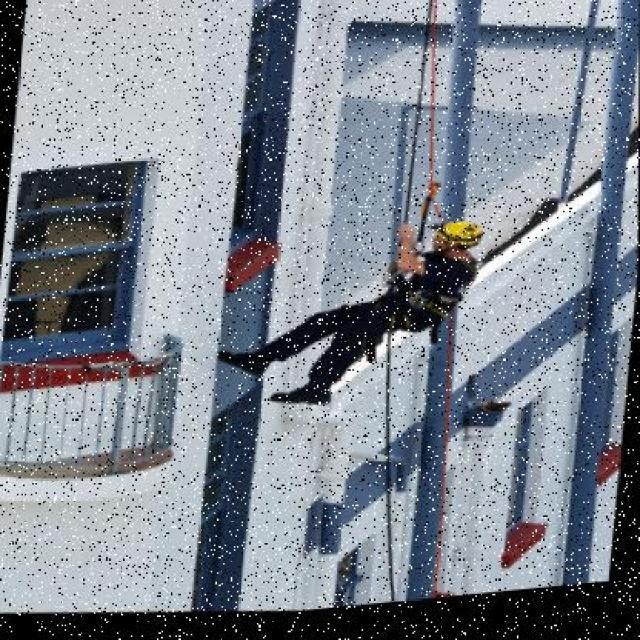helmet: (428, 220, 484, 269)
